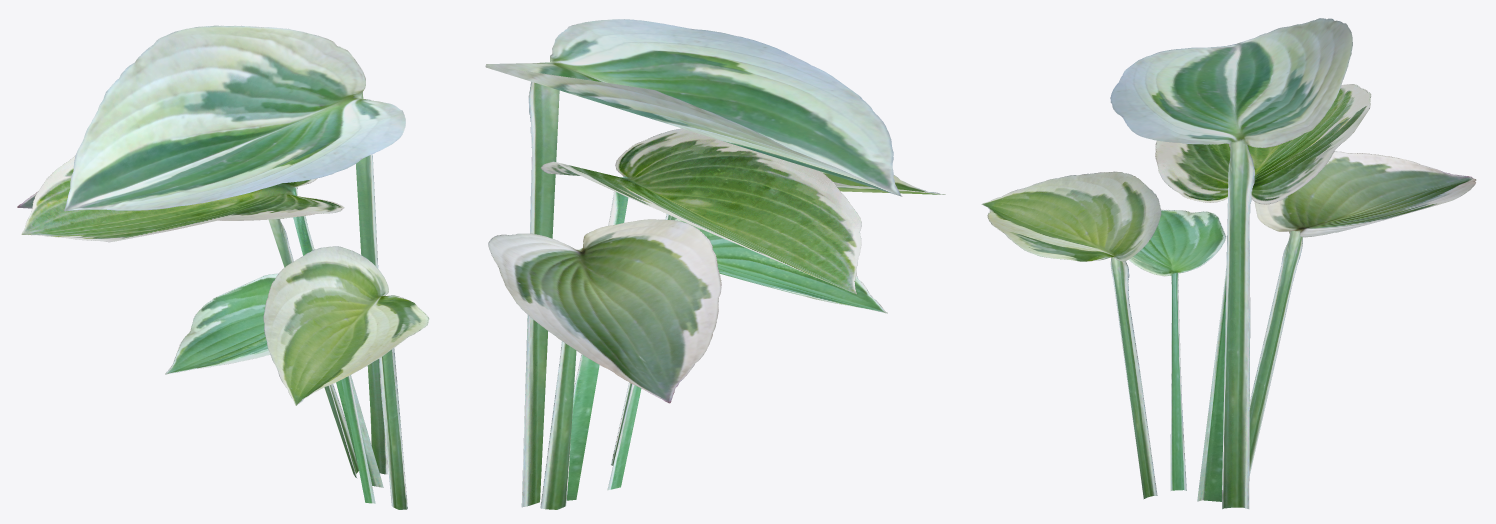
Rendered from plant_small_wg_00_line_filler_12.fbx.
The picture shows the model from 3 angles, left to right: view 1: azimuth 30°, elevation 25°; view 2: azimuth 150°, elevation 25°; view 3: azimuth 270°, elevation 25°; orthographic projection. The views are drawn at different scales.
Parts seen in each view (by area): view 1: plant_small_wg_00_line_filler_12; view 2: plant_small_wg_00_line_filler_12; view 3: plant_small_wg_00_line_filler_12.
Boxes of the visible parts, x1,y1,x2,y2 form: plant_small_wg_00_line_filler_12: [17, 25, 429, 509]; plant_small_wg_00_line_filler_12: [485, 19, 945, 509]; plant_small_wg_00_line_filler_12: [981, 18, 1476, 509].
Size of the model in its own units: 26.73 by 33.99 by 37.59.
Materials: 1 (1 with a texture image).
